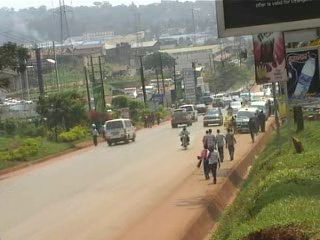Car: (199, 106, 225, 127), (169, 106, 193, 128), (228, 99, 246, 113), (193, 101, 208, 114)
Motorcycle: (176, 130, 190, 151), (223, 104, 233, 120)
